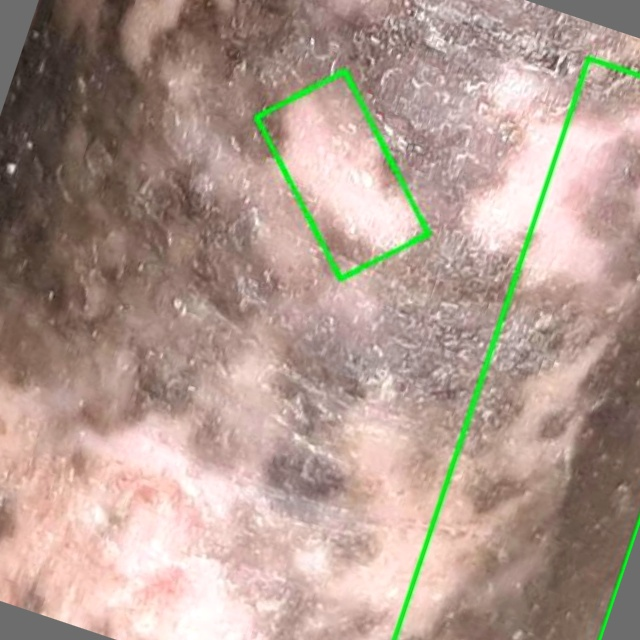Eczema: (394, 58, 639, 639), (256, 72, 429, 279)
